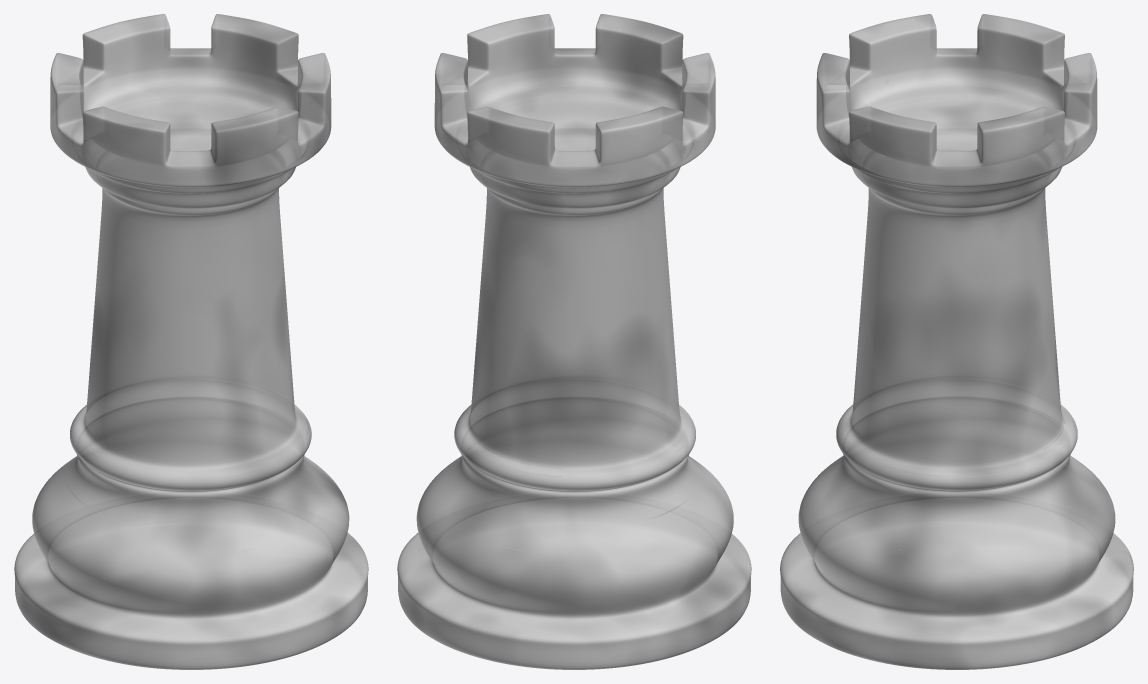
Rendered from torre_regular.glb.
3 views of the same model, side by side, from view 1: azimuth 30°, elevation 25°; view 2: azimuth 150°, elevation 25°; view 3: azimuth 270°, elevation 25° (orthographic).
Parts seen in each view (by area): view 1: ROOK; view 2: ROOK; view 3: ROOK.
Boxes of the visible parts, x1,y1,x2,y2 form: ROOK: [14, 14, 368, 669]; ROOK: [397, 14, 751, 669]; ROOK: [780, 14, 1133, 669].
Bounding box in the file's own units: 0.0391 × 0.0641 × 0.0391.
Materials: 1 (1 with a texture image).
